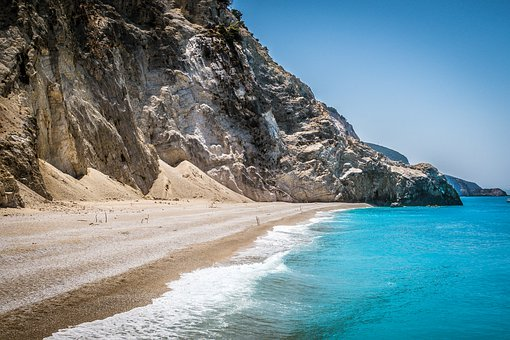mountain: (1, 8, 499, 204)
sea: (11, 205, 510, 338)
